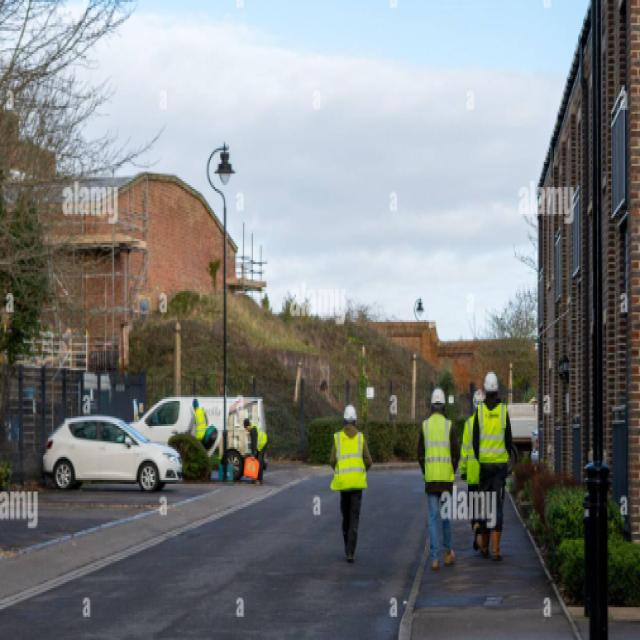boots: (478, 527, 506, 562), (471, 518, 492, 552), (428, 546, 457, 570), (340, 542, 363, 565), (256, 479, 266, 486)
helmet: (482, 370, 500, 395), (342, 404, 358, 429), (431, 387, 446, 413), (472, 388, 487, 412)
vest: (459, 412, 498, 486), (421, 412, 456, 485), (330, 429, 369, 491), (477, 400, 510, 465), (248, 419, 269, 452), (192, 407, 208, 440)
